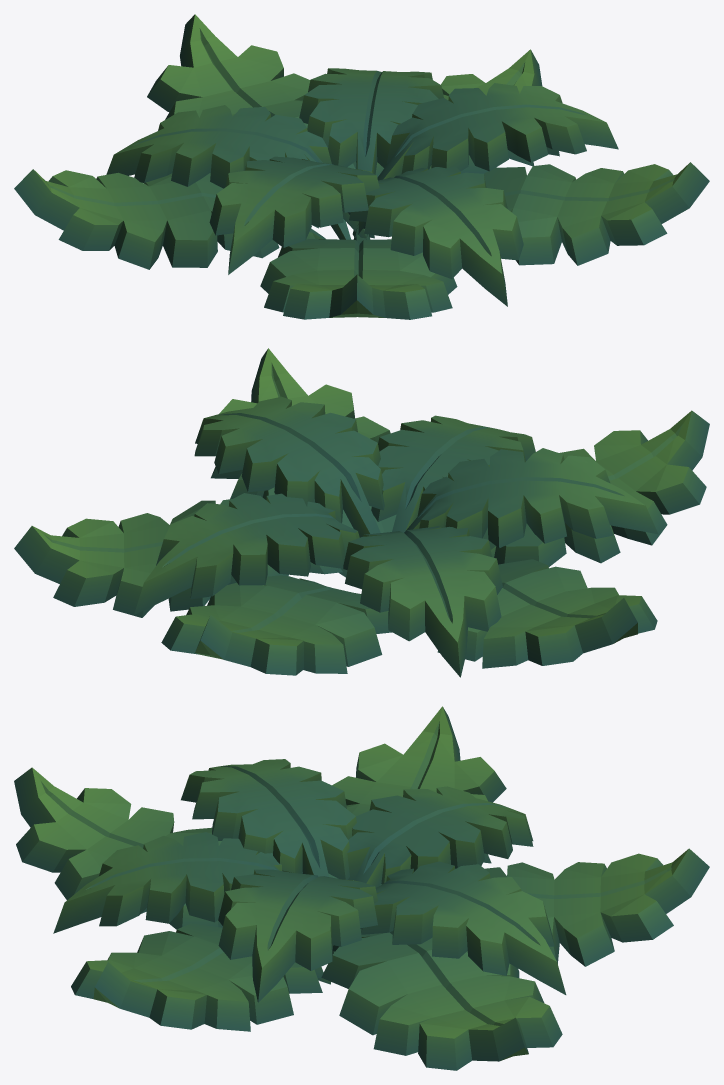
Rendered from Fern-1-1.fbx.
The picture shows the model from 3 angles, top to bottom: view 1: azimuth 30°, elevation 25°; view 2: azimuth 150°, elevation 25°; view 3: azimuth 270°, elevation 25°; orthographic projection. The views are drawn at different scales.
Parts seen in each view (by area): view 1: Fern-1-1; view 2: Fern-1-1; view 3: Fern-1-1.
Boxes of the visible parts, x1,y1,x2,y2 form: Fern-1-1: [14, 14, 709, 319]; Fern-1-1: [14, 348, 709, 677]; Fern-1-1: [14, 706, 709, 1070].
Size of the model in its own units: 264 by 65.11 by 268.
